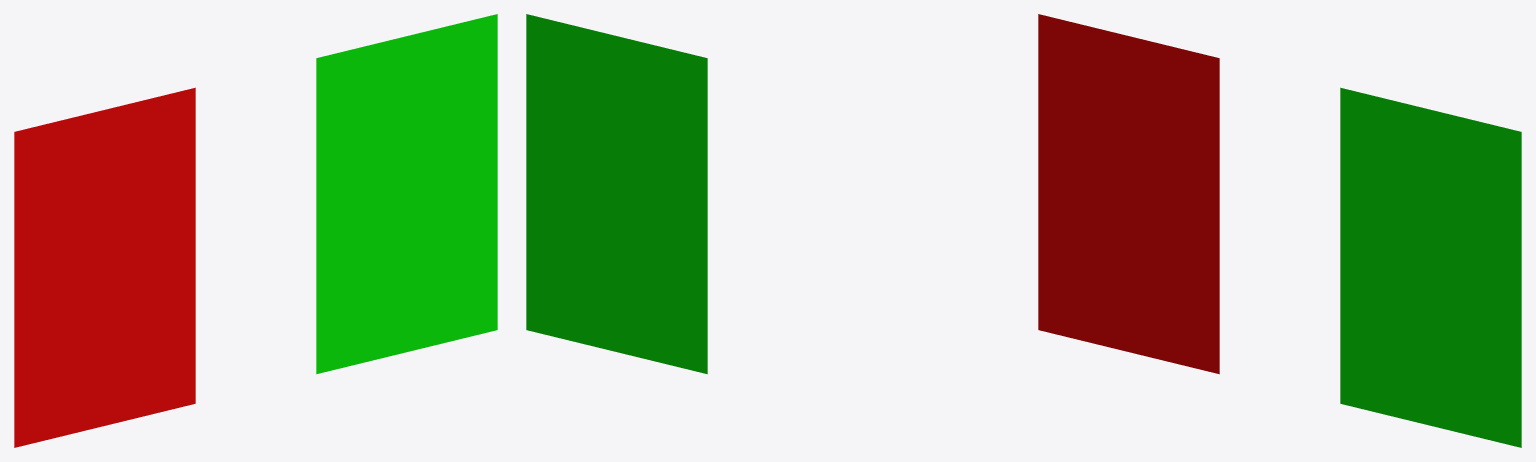
File: scene3d_sided.gltf
3 views of the same model, side by side, from view 1: azimuth 30°, elevation 25°; view 2: azimuth 150°, elevation 25°; view 3: azimuth 330°, elevation 25° (orthographic).
Bounding box in the file's own units: 3.2 × 2 × 0.
